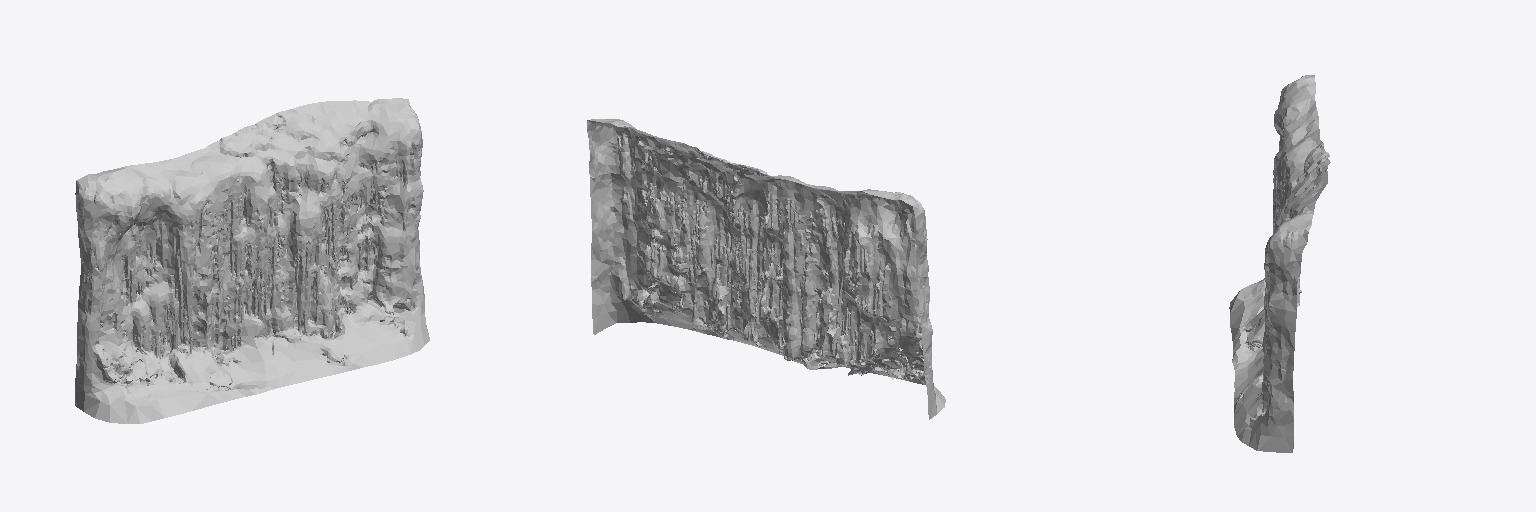
File: ice_wall_2.obj
The picture shows the model from 3 angles: view 1: azimuth 30°, elevation 25°; view 2: azimuth 150°, elevation 25°; view 3: azimuth 270°, elevation 25°; orthographic projection.
Visible parts, largest first — view 1: Aset_snow_cliff_L_uhpocesfa_LOD0; view 2: Aset_snow_cliff_L_uhpocesfa_LOD0; view 3: Aset_snow_cliff_L_uhpocesfa_LOD0.
Boxes of the visible parts, x1,y1,x2,y2 form: Aset_snow_cliff_L_uhpocesfa_LOD0: [75, 98, 429, 423]; Aset_snow_cliff_L_uhpocesfa_LOD0: [587, 119, 945, 419]; Aset_snow_cliff_L_uhpocesfa_LOD0: [1229, 75, 1330, 452].
Size of the model in its own units: 6.89 by 4.45 by 1.77.